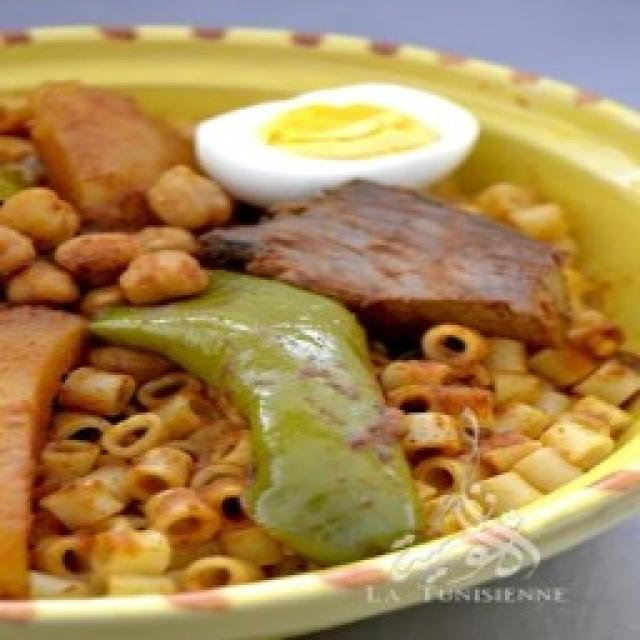Pasta: (0, 85, 640, 612)
